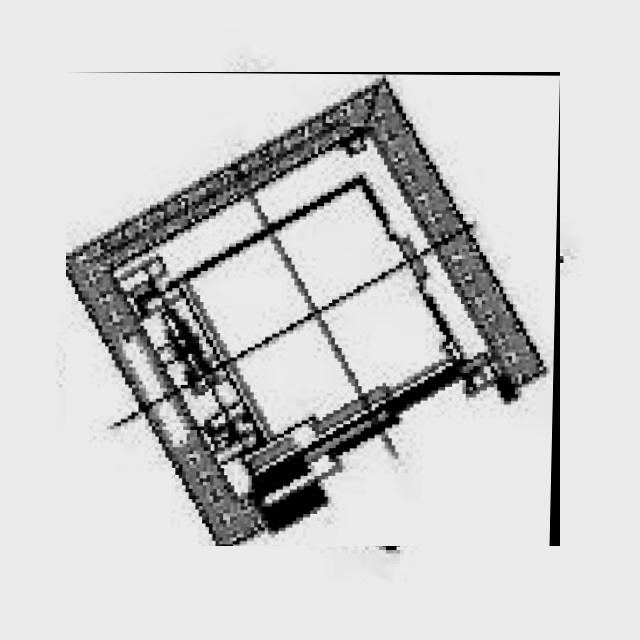lift: (66, 72, 560, 546)
